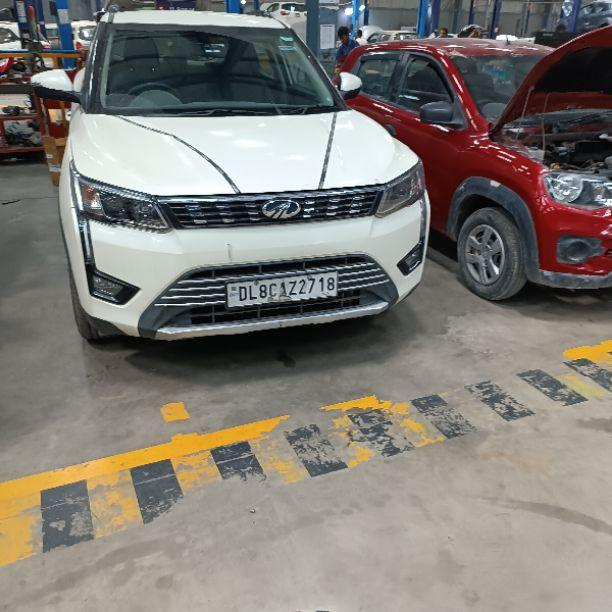license_plate: (224, 268, 339, 309)
